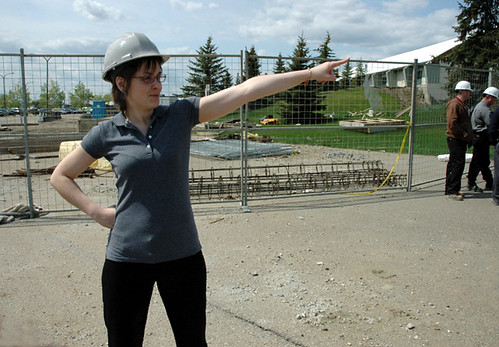person hardhat: (66, 34, 348, 347), (439, 79, 473, 201), (469, 84, 499, 193)
